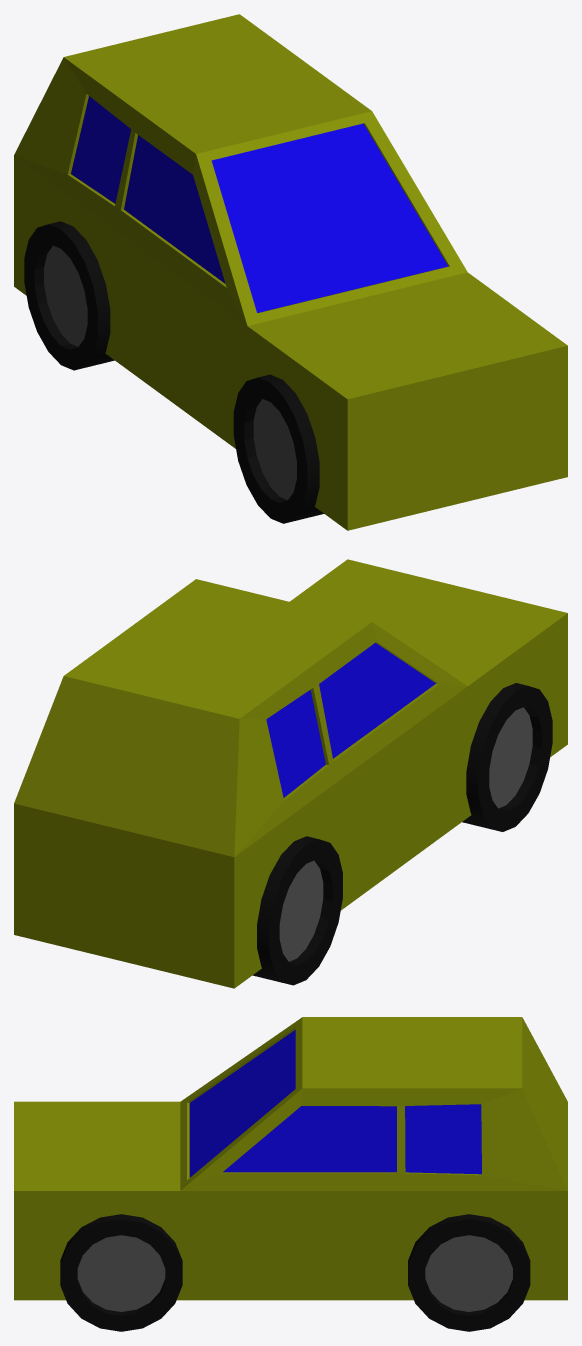
The model's file is Car2.FBX.
The picture shows the model from 3 angles, top to bottom: view 1: azimuth 30°, elevation 25°; view 2: azimuth 150°, elevation 25°; view 3: azimuth 270°, elevation 25°; orthographic projection. The views are drawn at different scales.
Parts seen in each view (by area): view 1: Box001, Cylinder002, Cylinder001; view 2: Box001, Cylinder001, Cylinder002; view 3: Box001, Cylinder004, Cylinder003.
Part boxes in pixels (<box>): Box001: <box>14,14,567,530</box>; Cylinder002: <box>24,221,114,370</box>; Cylinder001: <box>233,374,323,523</box>; Box001: <box>14,559,567,988</box>; Cylinder001: <box>462,683,552,831</box>; Cylinder002: <box>252,836,342,985</box>; Box001: <box>14,1017,567,1300</box>; Cylinder004: <box>60,1214,182,1331</box>; Cylinder003: <box>408,1214,530,1331</box>.
Bounding box in the file's own units: 0.4566 × 0.4919 × 1.08.
